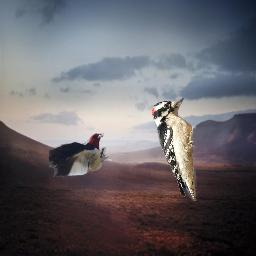Woodpecker: (151, 98, 197, 201), (49, 131, 109, 177)
